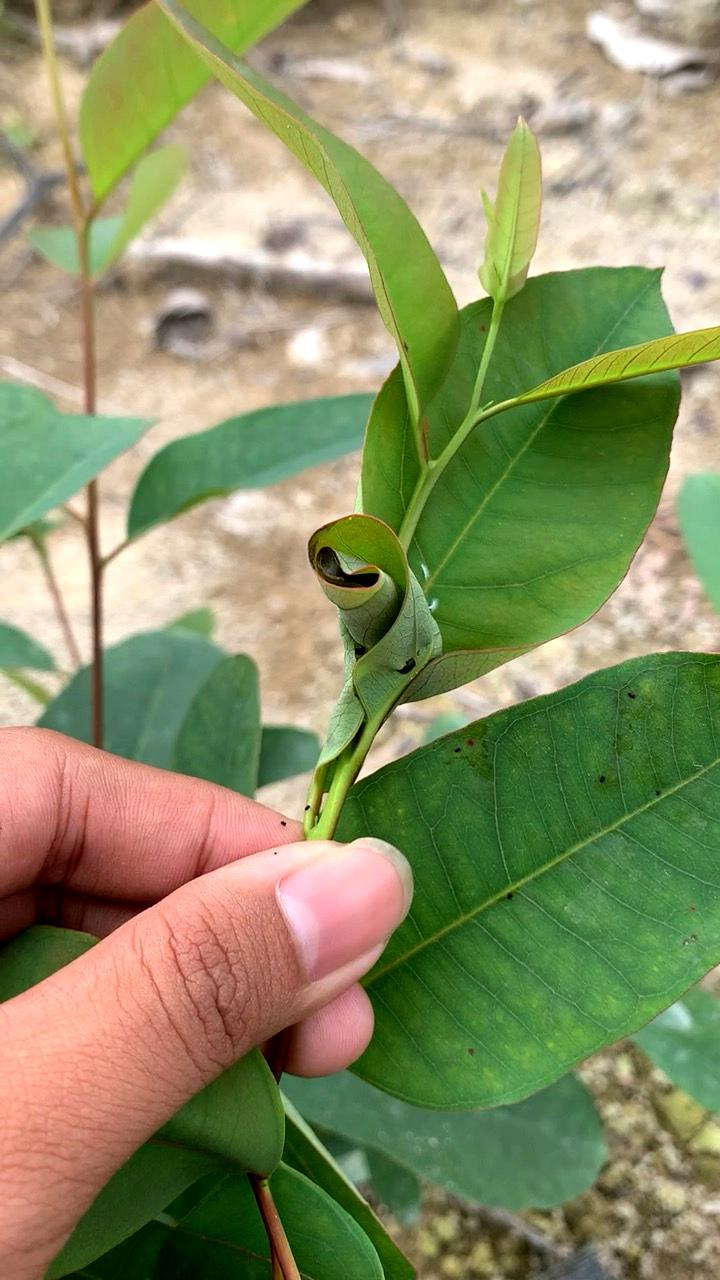Leaf Roller - Leaf: (250, 478, 497, 744)
